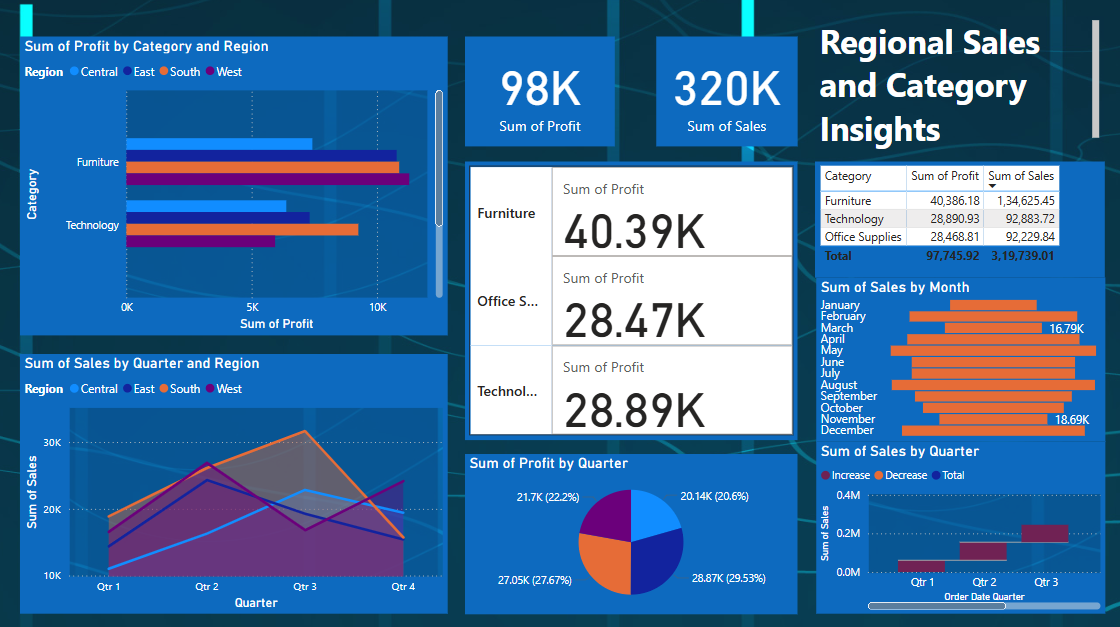

What the dashboard file says about the page in this screenshot:
{"tool":"powerbi","page":{"name":"Page 1","canvas":[1280,720],"ordinal":0},"visuals":[{"type":"clusteredBarChart","fields":{"Category":["Superstore_Sales.Category"],"Series":["Superstore_Sales.Region"],"Y":["Sum(Superstore_Sales.Profit)"]},"box":[22.9,42.9,488.6,341.4],"z":0},{"type":"areaChart","fields":{"Category":["Superstore_Sales.Order Date.Variation.Date Hierarchy.Quarter"],"Series":["Superstore_Sales.Region"],"Y":["Sum(Superstore_Sales.Sales)"]},"box":[22.9,405.7,488.6,297.1],"z":1000},{"type":"card","fields":{"Values":["Sum(Superstore_Sales.Profit)"]},"box":[531.4,42.9,171.4,125.7],"z":2000},{"type":"card","fields":{"Values":["Sum(Superstore_Sales.Sales)"]},"box":[750,42.9,161.4,125.7],"z":3000},{"type":"cardVisual","fields":{"Data":["Sum(Superstore_Sales.Profit)"],"Rows":["Superstore_Sales.Category"]},"box":[531.4,185.7,380,318.6],"z":3001},{"type":"pieChart","fields":{"Category":["Superstore_Sales.Order Date.Variation.Date Hierarchy.Quarter"],"Y":["Sum(Superstore_Sales.Profit)"]},"box":[531.4,520,380,182.9],"z":3002},{"type":"tableEx","fields":{"Values":["Superstore_Sales.Category","Sum(Superstore_Sales.Profit)","Sum(Superstore_Sales.Sales)"]},"box":[931.4,185.7,331.4,132.9],"z":3003},{"type":"funnel","fields":{"Category":["Superstore_Sales.Order Date.Variation.Date Hierarchy.Month"],"Y":["Sum(Superstore_Sales.Sales)"]},"box":[932.9,318.6,330,187.1],"z":3004},{"type":"waterfallChart","fields":{"Category":["Superstore_Sales.Order Date.Variation.Date Hierarchy.Quarter"],"Y":["Sum(Superstore_Sales.Sales)"]},"box":[932.9,505.7,330,197.1],"z":3005},{"type":"textbox","box":[931.4,18.6,330,167.1],"z":3006}]}

Visuals, with their boxes in screenshot pixels (x1, y1, x2, y2), scaled from the page's 1280x720 canvas onto the 1120x627 screenshot:
clusteredBarChart - Superstore_Sales.Category x Superstore_Sales.Region: 20:37:448:335
areaChart - Superstore_Sales.Order Date.Variation.Date Hierarchy.Quarter x Superstore_Sales.Region: 20:353:448:612
card - Sum(Superstore_Sales.Profit): 465:37:615:147
card - Sum(Superstore_Sales.Sales): 656:37:797:147
cardVisual - Sum(Superstore_Sales.Profit) x Superstore_Sales.Category: 465:162:797:439
pieChart - Superstore_Sales.Order Date.Variation.Date Hierarchy.Quarter x Sum(Superstore_Sales.Profit): 465:453:797:612
tableEx - Superstore_Sales.Category x Sum(Superstore_Sales.Profit): 815:162:1105:277
funnel - Superstore_Sales.Order Date.Variation.Date Hierarchy.Month x Sum(Superstore_Sales.Sales): 816:277:1105:440
waterfallChart - Superstore_Sales.Order Date.Variation.Date Hierarchy.Quarter x Sum(Superstore_Sales.Sales): 816:440:1105:612
textbox: 815:16:1104:162
